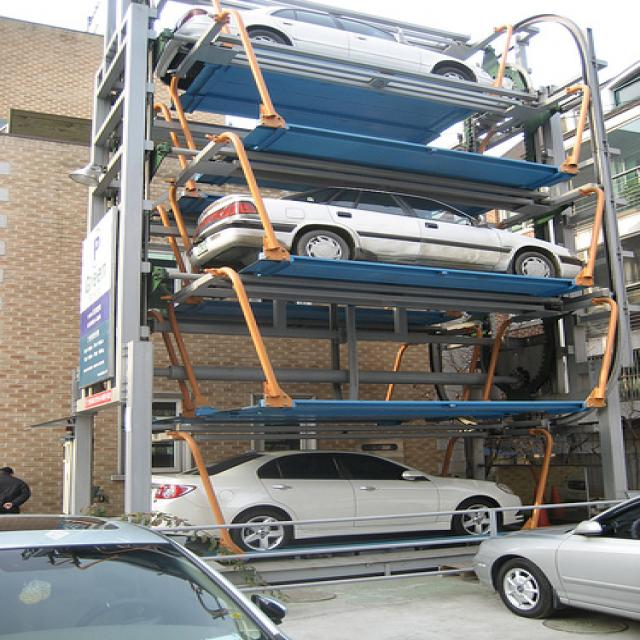Car: (139, 440, 535, 541), (182, 184, 579, 280), (0, 522, 297, 640), (164, 6, 508, 87), (468, 491, 640, 636)
